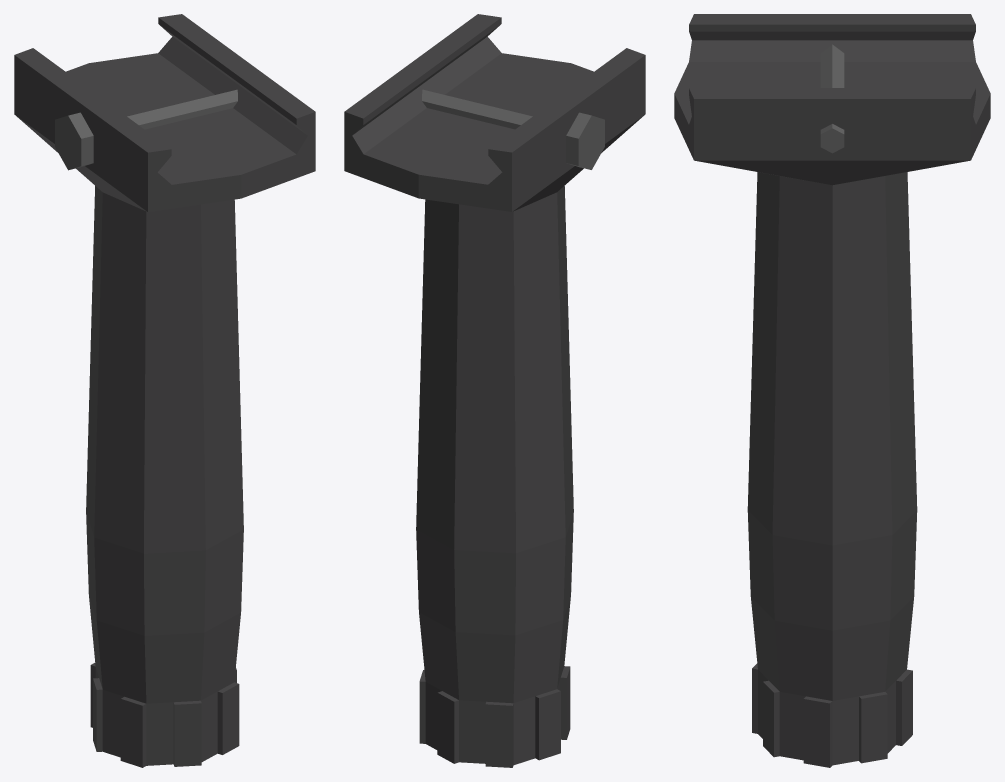
The model's file is att_grip_v.glb.
The picture shows the model from 3 angles, left to right: view 1: azimuth 30°, elevation 25°; view 2: azimuth 150°, elevation 25°; view 3: azimuth 270°, elevation 25°; orthographic projection. The views are drawn at different scales.
Visible parts, largest first — view 1: vertical_Grip_03_0; view 2: vertical_Grip_03_0; view 3: vertical_Grip_03_0.
Boxes of the visible parts, left/top/right/bottom form: vertical_Grip_03_0: left=14, top=14, right=315, bottom=767; vertical_Grip_03_0: left=344, top=14, right=645, bottom=767; vertical_Grip_03_0: left=674, top=14, right=990, bottom=767.
Bounding box in the file's own units: 0.0271 × 0.089 × 0.0377.
1 material, 1 textured.
